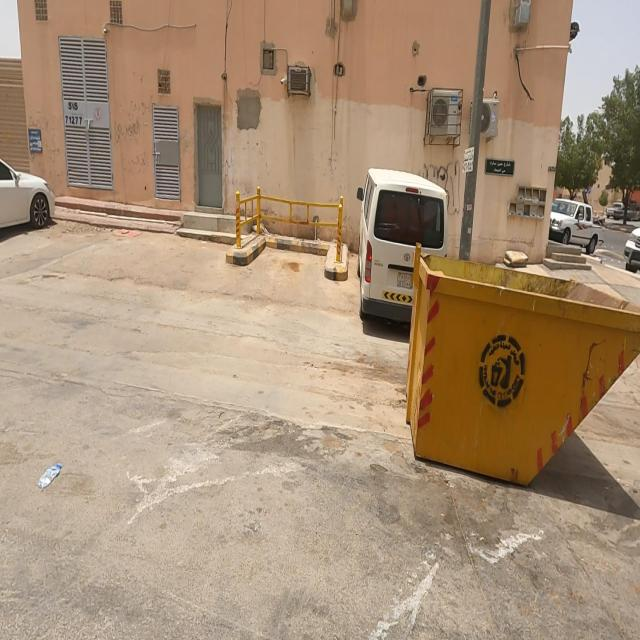Graffiti: (114, 96, 151, 180), (45, 115, 66, 182), (421, 160, 462, 192), (448, 191, 464, 216)
